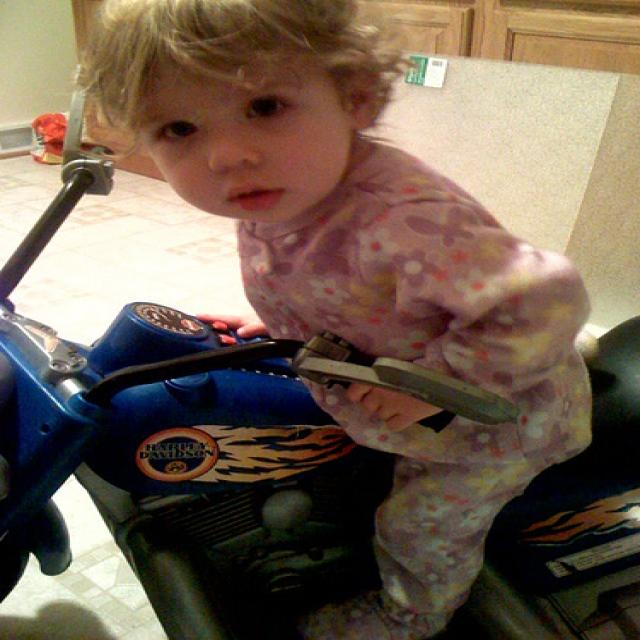motor: (0, 165, 640, 640)
